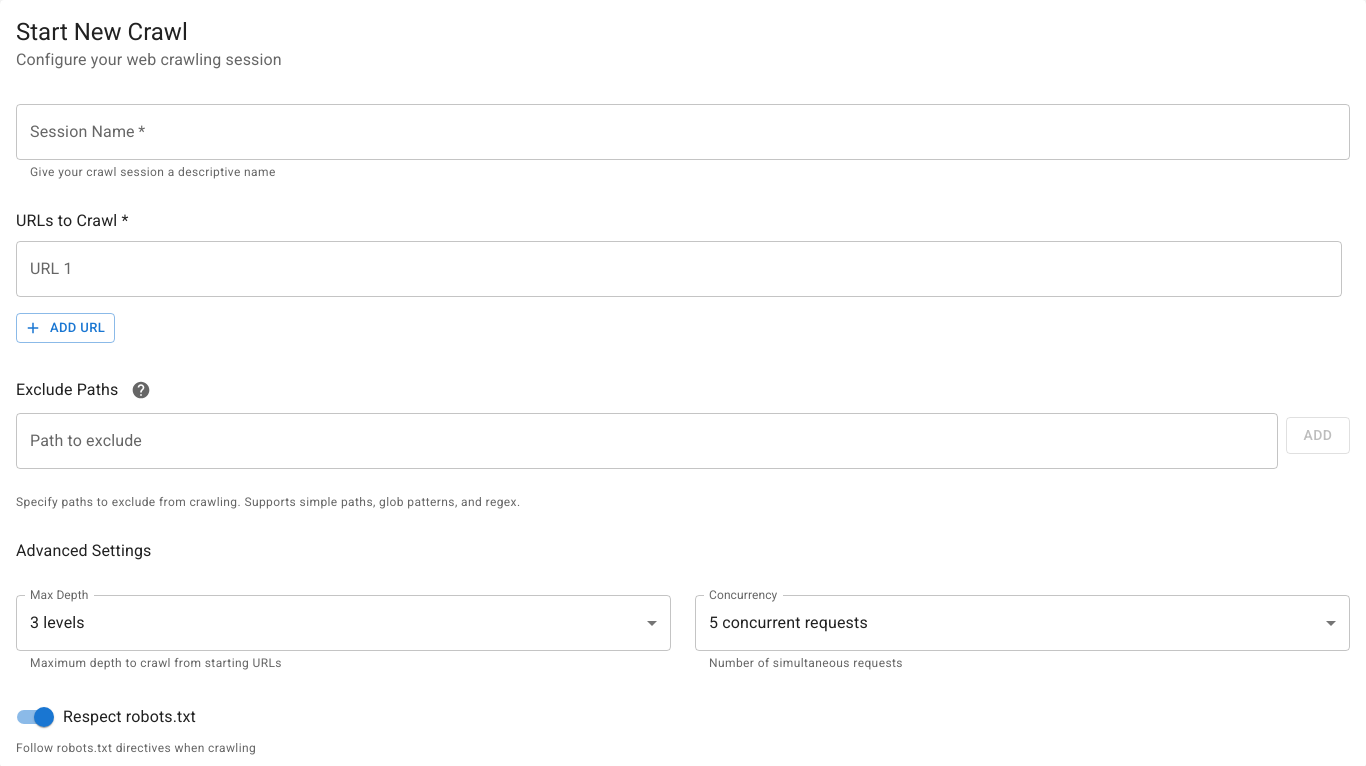
Test: CrawlForm - Path Exclusion Features › Help Documentation › should toggle pattern help documentation
Expected: the text "Pattern Types:" is not shown
Click to show help
Click the button with test id "HelpIcon".
click(141, 390)  # box x1=126 y1=375 x2=156 y2=405
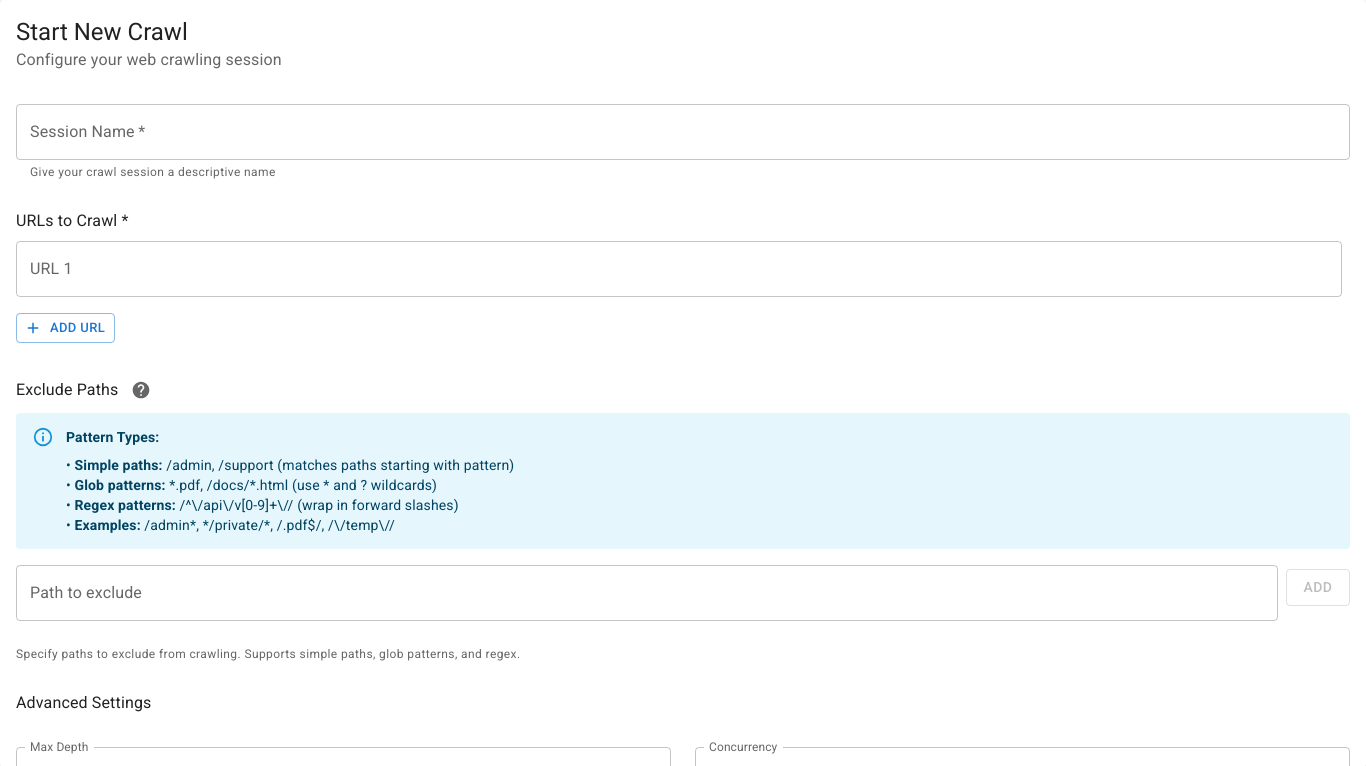
Result: the text "Pattern Types:" is shown at x1=66 y1=429 x2=159 y2=445
Result: the text "Simple paths:" is shown at x1=74 y1=457 x2=163 y2=473
Result: the text "Glob patterns:" is shown at x1=74 y1=477 x2=166 y2=493
Click to hide help
Click the button with test id "HelpIcon".
click(141, 390)  # box x1=126 y1=375 x2=156 y2=405
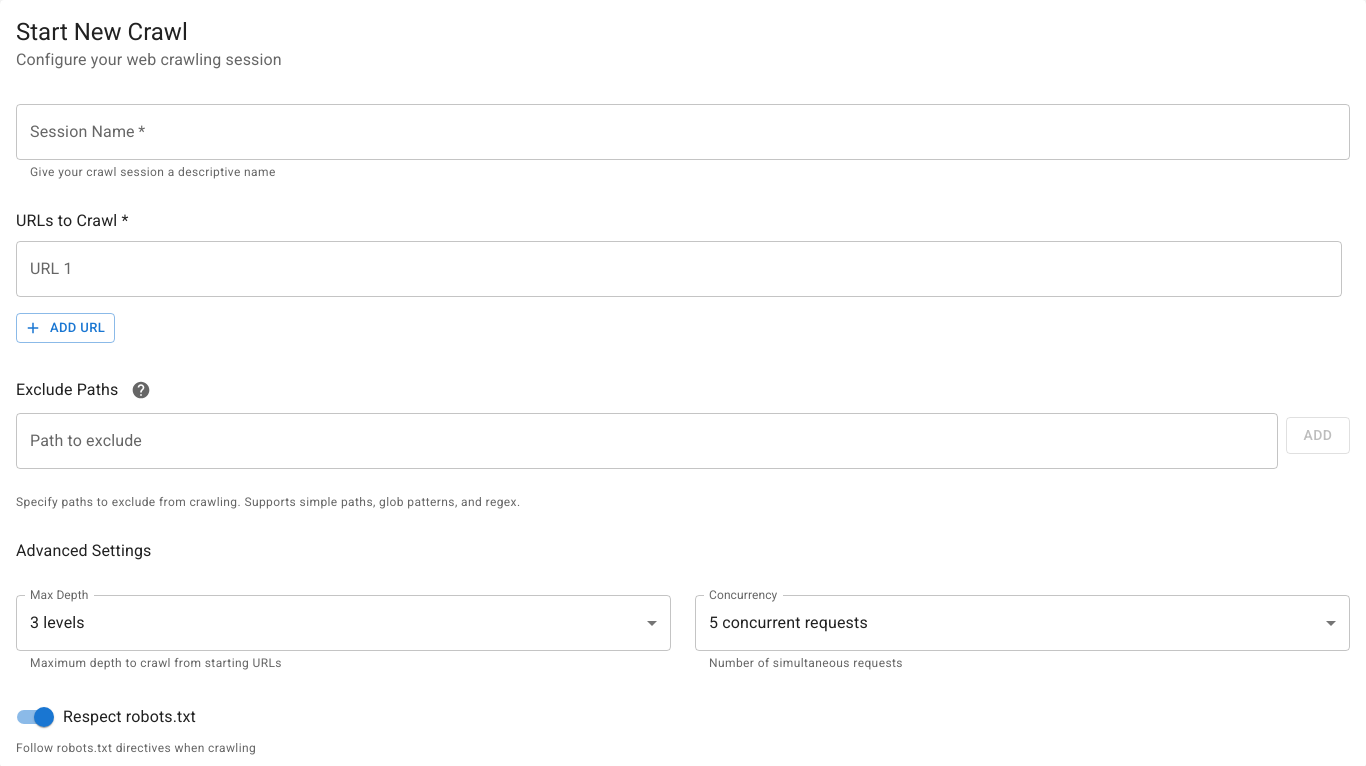
Result: the text "Pattern Types:" is gone
